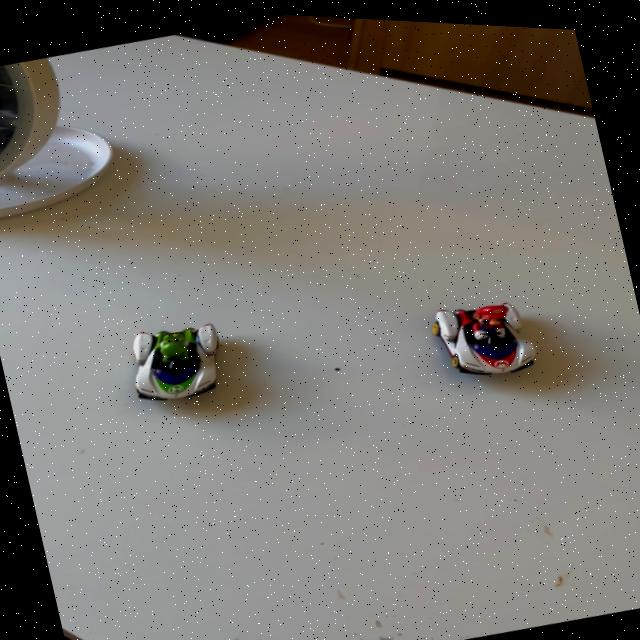mario: (414, 276, 562, 396)
yoshi: (111, 304, 242, 421)
